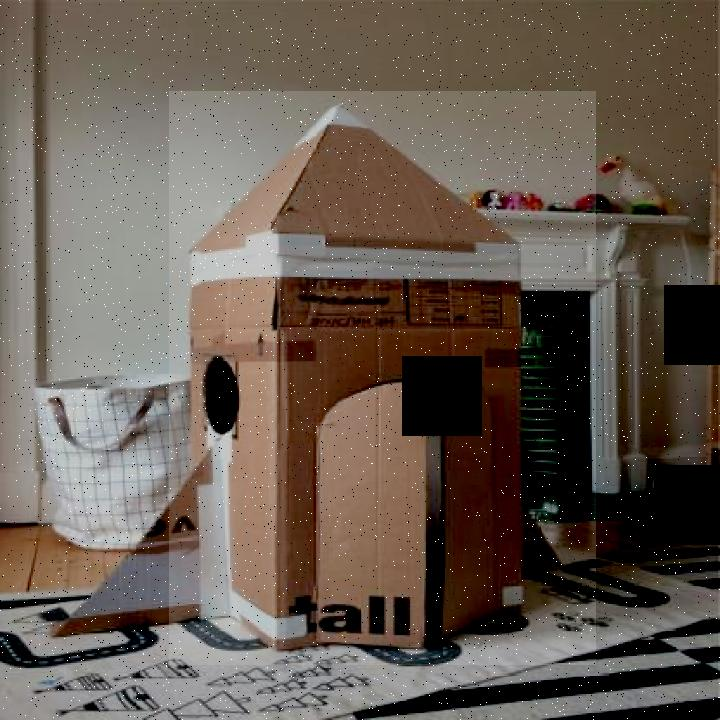box: (169, 91, 596, 665)
